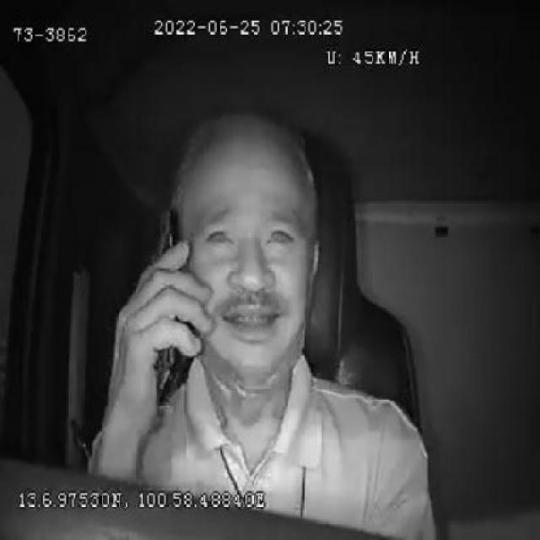phone: (148, 203, 197, 399)
